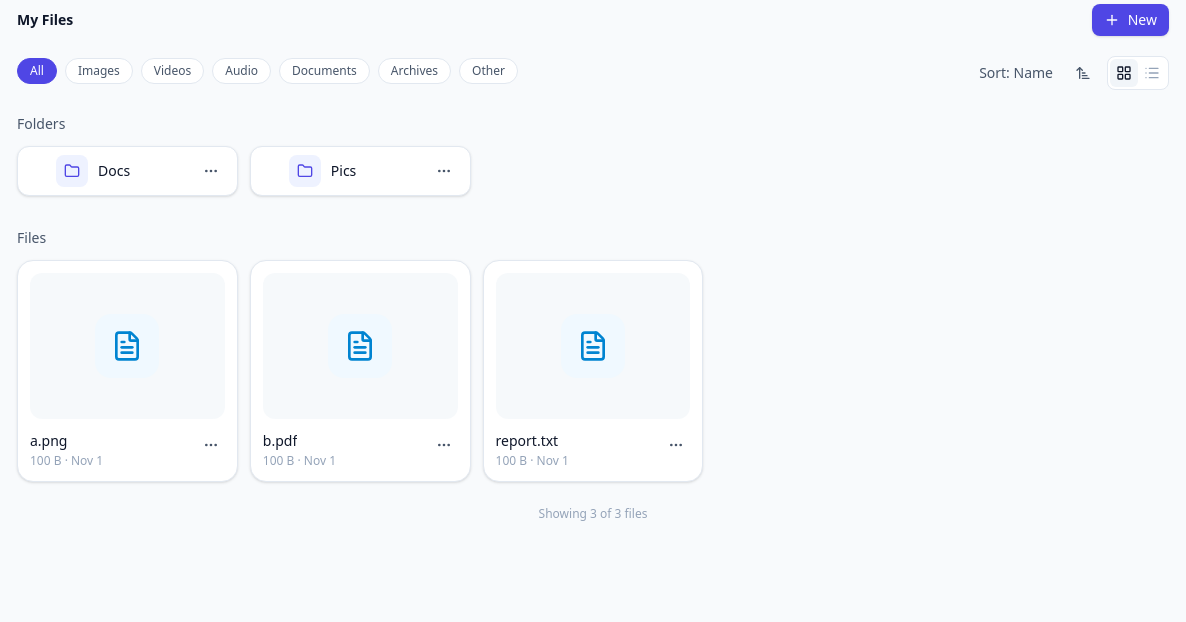
it: menus › ⋯ on a selected item acts on the whole selection
Expected: the button "report.txt" is shown, left=496, top=431, right=558, bottom=451
Click the list item "a.png": (127, 371) left=17, top=260, right=238, bottom=482
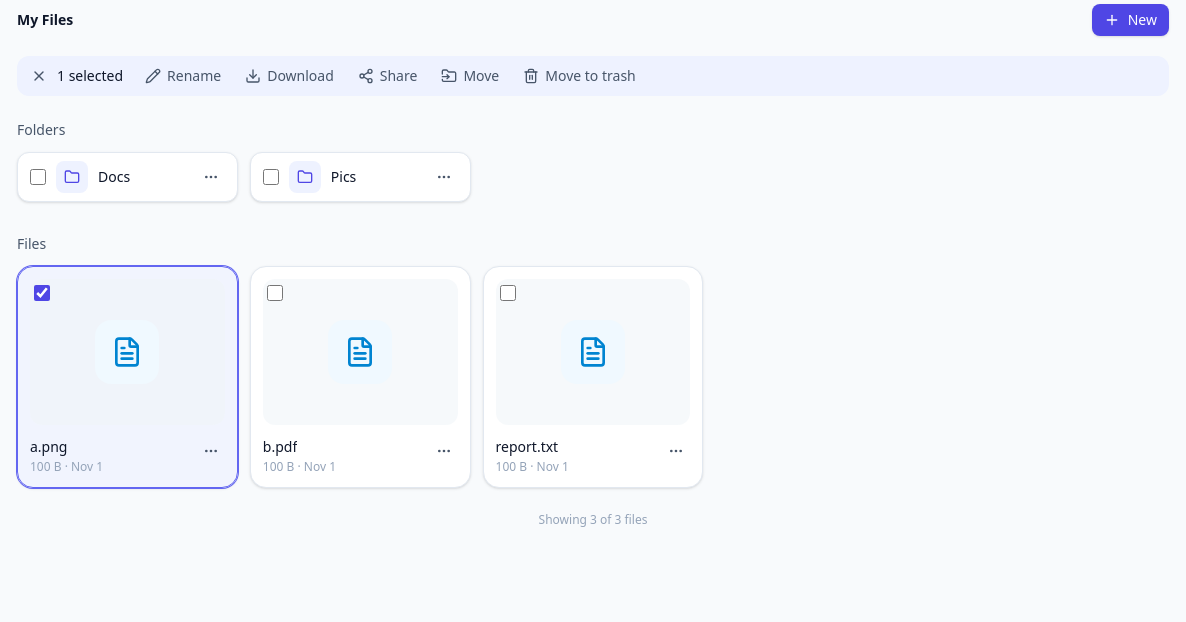
Click the list item "b.pdf": (360, 377) left=250, top=266, right=471, bottom=488
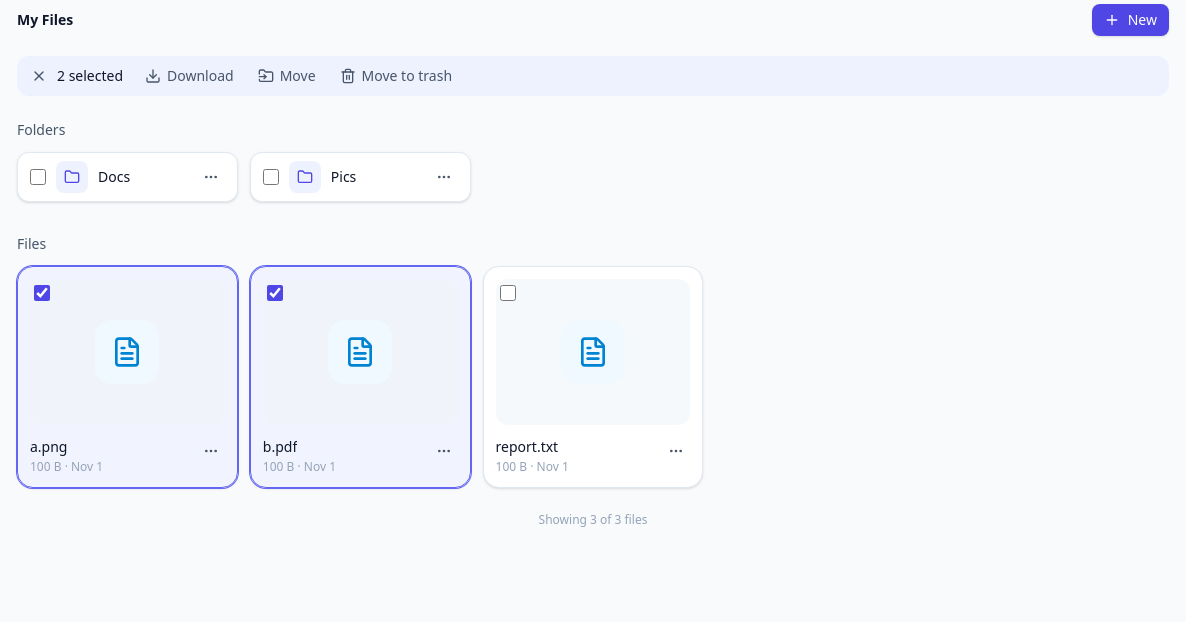
Click the button named "Actions for a.png": (211, 451) left=197, top=437, right=225, bottom=465
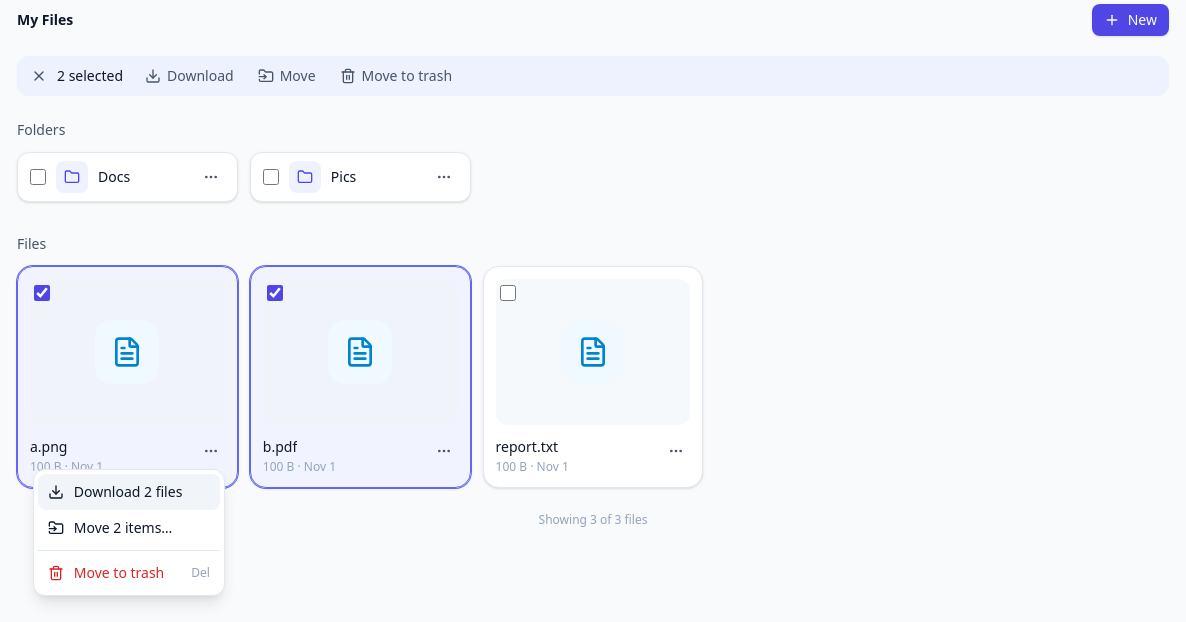
Expected: the button "Rename" is not shown
Expected: the menu item "Move 2 items…" is shown, left=38, top=510, right=220, bottom=546
